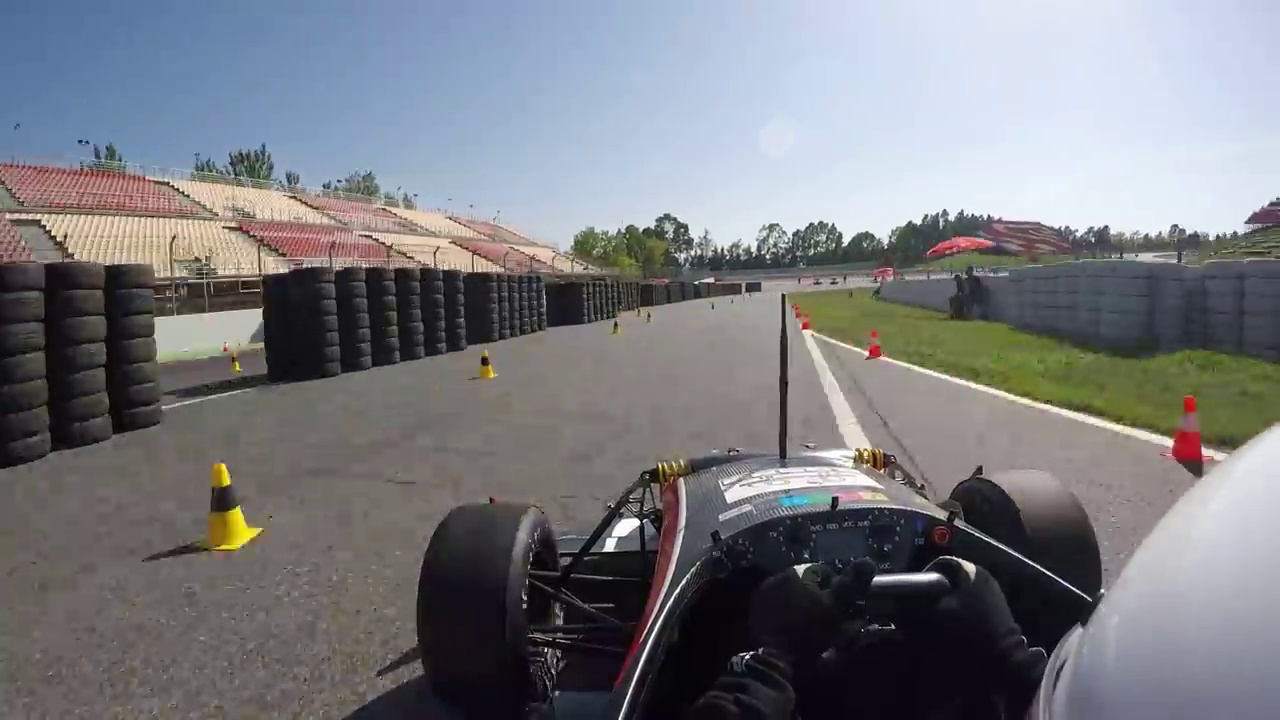Cone: (200, 458, 254, 553), (1172, 394, 1213, 462), (477, 348, 498, 380)
